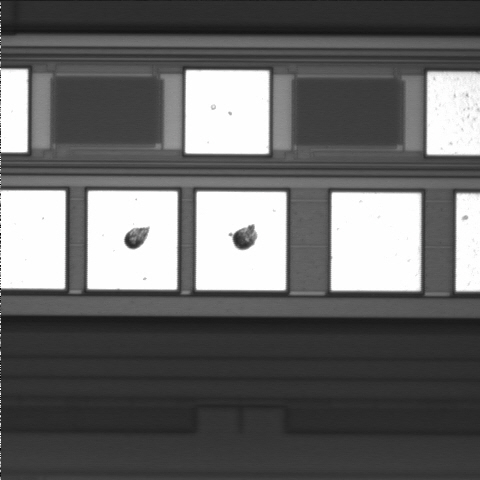pad: (88, 191, 178, 290), (331, 192, 421, 291), (196, 192, 286, 290), (185, 70, 269, 154)
